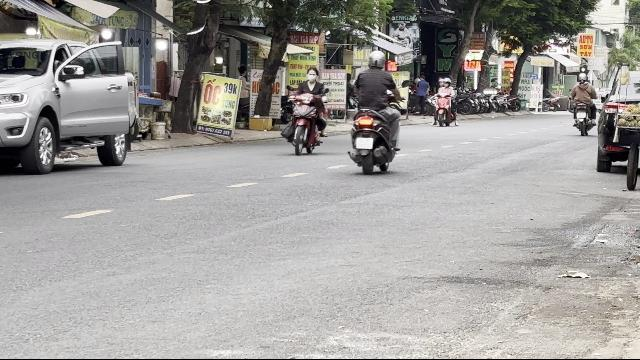helmet: (367, 50, 385, 68)
licenseplate: (356, 138, 372, 148)
motorcyclist: (346, 49, 402, 173), (283, 66, 329, 154)
nohelmet: (306, 66, 318, 82)
